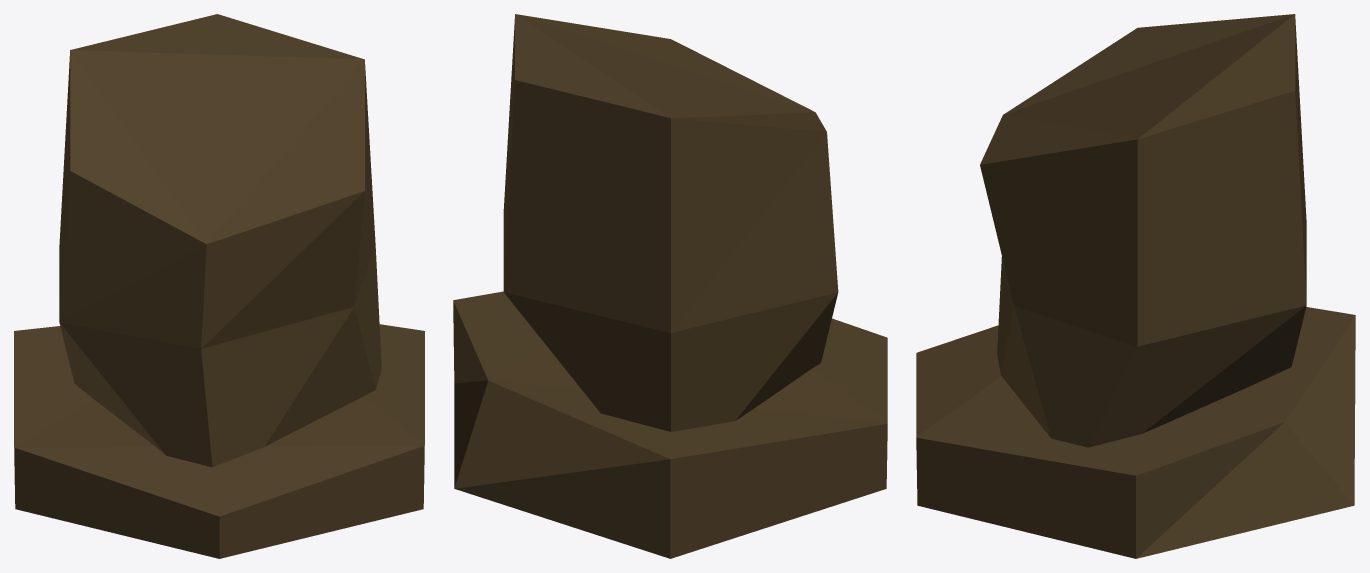
The model's file is A_collumnstump.FBX.
3 renders of one model, left to right at view 1: azimuth 30°, elevation 25°; view 2: azimuth 150°, elevation 25°; view 3: azimuth 270°, elevation 25°, orthographic. The views are drawn at different scales.
Visible parts, largest first — view 1: collumn; view 2: collumn; view 3: collumn.
Part boxes in pixels (<box>): collumn: <box>14,14,424,558</box>; collumn: <box>453,14,887,558</box>; collumn: <box>916,14,1355,558</box>.
Bounding box in the file's own units: 89.98 × 81.58 × 77.92.
